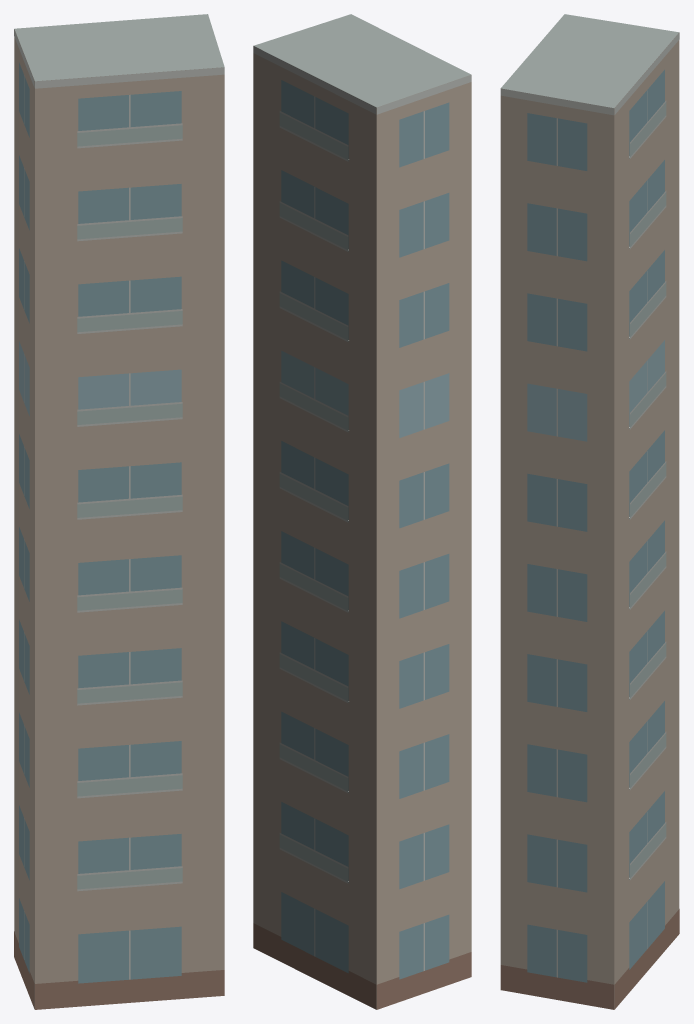
Rendered from survey-upis-32526869.glb.
3 views of the same model, side by side, from view 1: azimuth 30°, elevation 25°; view 2: azimuth 150°, elevation 25°; view 3: azimuth 270°, elevation 25° (orthographic). The views are drawn at different scales.
Visible parts, largest first — view 1: survey-upis-32526869.tmp; view 2: survey-upis-32526869.tmp; view 3: survey-upis-32526869.tmp.
Part boxes in pixels (x1,y1,x2,y2): survey-upis-32526869.tmp: [14, 14, 224, 1009]; survey-upis-32526869.tmp: [253, 14, 471, 1009]; survey-upis-32526869.tmp: [500, 14, 679, 1009].
Size of the model in its own units: 6.84 by 30.5 by 5.49.
